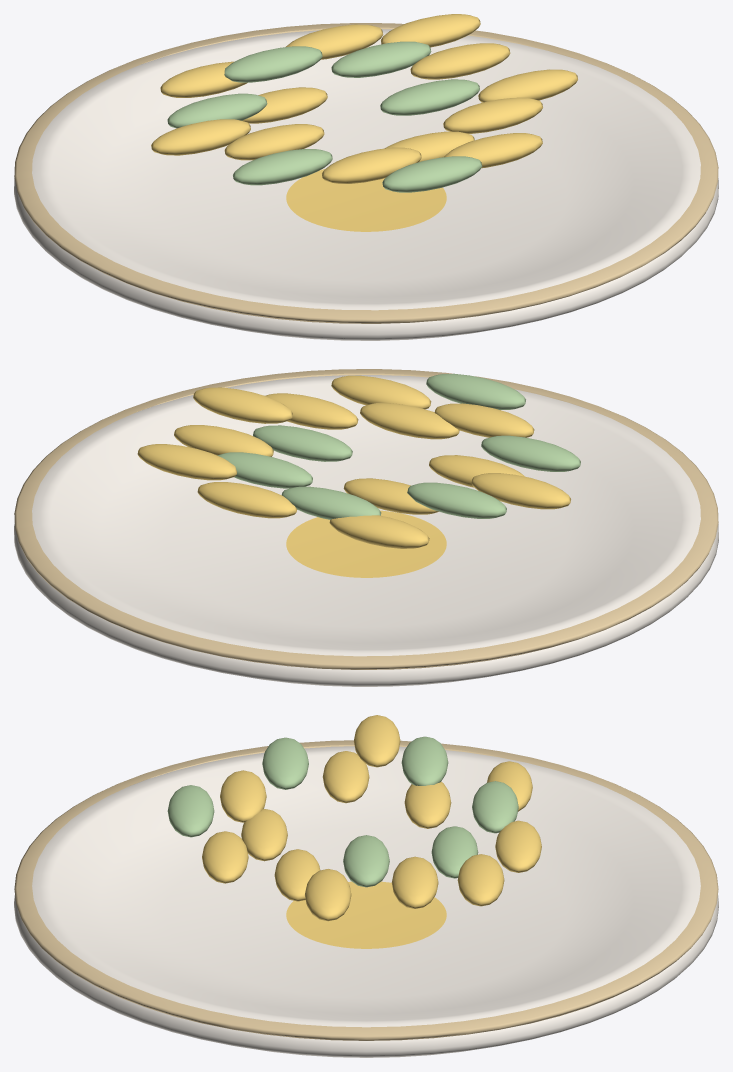
File: mango-sticky-table.glb
3 views of the same model, one above another, from view 1: azimuth 30°, elevation 25°; view 2: azimuth 150°, elevation 25°; view 3: azimuth 270°, elevation 25° (orthographic).
Parts seen in each view (by area): view 1: Wide ceramic serving plate, Hand-painted plate rim, Sauce well, Fresh mango topping, Fresh mango topping.015, Fresh mango topping.008, Fresh mango topping.012, Fresh mango topping.003, Fresh mango topping.006, Fresh mango topping.017, Fresh mango topping.005, Fresh mango topping.007 (+9 smaller); view 2: Wide ceramic serving plate, Hand-painted plate rim, Sauce well, Fresh mango topping.013, Fresh mango topping.016, Fresh mango topping.012, Fresh mango topping.009, Fresh mango topping.017, Fresh mango topping.011, Fresh mango topping, Fresh mango topping.015, Fresh mango topping.002 (+9 smaller); view 3: Wide ceramic serving plate, Hand-painted plate rim, Sauce well, Fresh mango topping, Fresh mango topping.010, Fresh mango topping.012, Fresh mango topping.016, Fresh mango topping.013, Fresh mango topping.015, Fresh mango topping.008, Fresh mango topping.017, Fresh mango topping.004 (+9 smaller).
Part boxes in pixels (left/top/right/bottom): Wide ceramic serving plate: left=14, top=29, right=718, bottom=340; Hand-painted plate rim: left=14, top=23, right=718, bottom=323; Sauce well: left=286, top=169, right=446, bottom=231; Fresh mango topping: left=380, top=79, right=479, bottom=115; Fresh mango topping.015: left=382, top=156, right=482, bottom=192; Fresh mango topping.008: left=410, top=43, right=510, bottom=79; Fresh mango topping.012: left=233, top=149, right=332, bottom=185; Fresh mango topping.003: left=331, top=41, right=431, bottom=77; Fresh mango topping.006: left=224, top=46, right=322, bottom=82; Fresh mango topping.017: left=151, top=119, right=250, bottom=155; Fresh mango topping.005: left=443, top=97, right=542, bottom=133; Fresh mango topping.007: left=322, top=147, right=421, bottom=183; Wide ceramic serving plate: left=14, top=375, right=718, bottom=686; Hand-painted plate rim: left=14, top=369, right=718, bottom=669; Sauce well: left=286, top=510, right=446, bottom=577; Fresh mango topping.013: left=193, top=387, right=292, bottom=423; Fresh mango topping.016: left=137, top=444, right=236, bottom=480; Fresh mango topping.012: left=481, top=435, right=580, bottom=471; Fresh mango topping.009: left=407, top=482, right=506, bottom=518; Fresh mango topping.017: left=471, top=473, right=570, bottom=509; Fresh mango topping.011: left=197, top=482, right=297, bottom=518; Fresh mango topping: left=253, top=425, right=352, bottom=461; Fresh mango topping.015: left=426, top=373, right=525, bottom=410; Fresh mango topping.002: left=360, top=403, right=459, bottom=439; Wide ceramic serving plate: left=14, top=746, right=718, bottom=1057; Hand-painted plate rim: left=14, top=740, right=718, bottom=1040; Sauce well: left=286, top=881, right=446, bottom=948; Fresh mango topping: left=343, top=835, right=389, bottom=887; Fresh mango topping.010: left=202, top=831, right=248, bottom=883; Fresh mango topping.012: left=262, top=737, right=308, bottom=789; Fresh mango topping.016: left=457, top=854, right=504, bottom=906; Fresh mango topping.013: left=305, top=869, right=351, bottom=921; Fresh mango topping.015: left=167, top=785, right=214, bottom=837; Fresh mango topping.008: left=391, top=856, right=438, bottom=908; Fresh mango topping.017: left=353, top=715, right=400, bottom=767; Fresh mango topping.004: left=322, top=751, right=369, bottom=803.
Bounding box in the file's own units: 1.05 × 0.2129 × 1.05.
